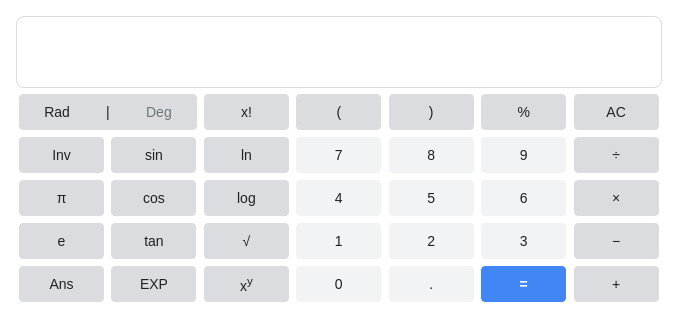
AppComponent › should write to input on button click
Click the button with test id "1" at (339, 241), box x1=296 y1=223 x2=381 y2=259
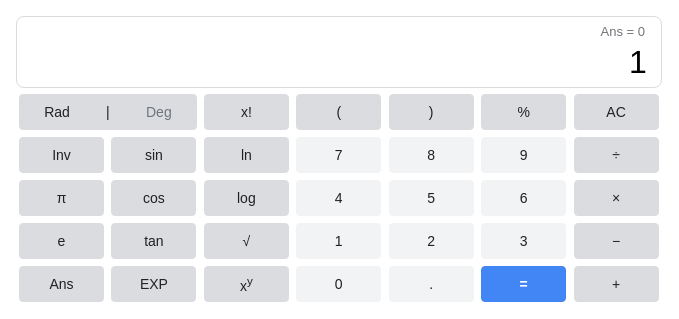
Check: the text box with test id "input" reads "1", box x1=16 y1=16 x2=662 y2=88
